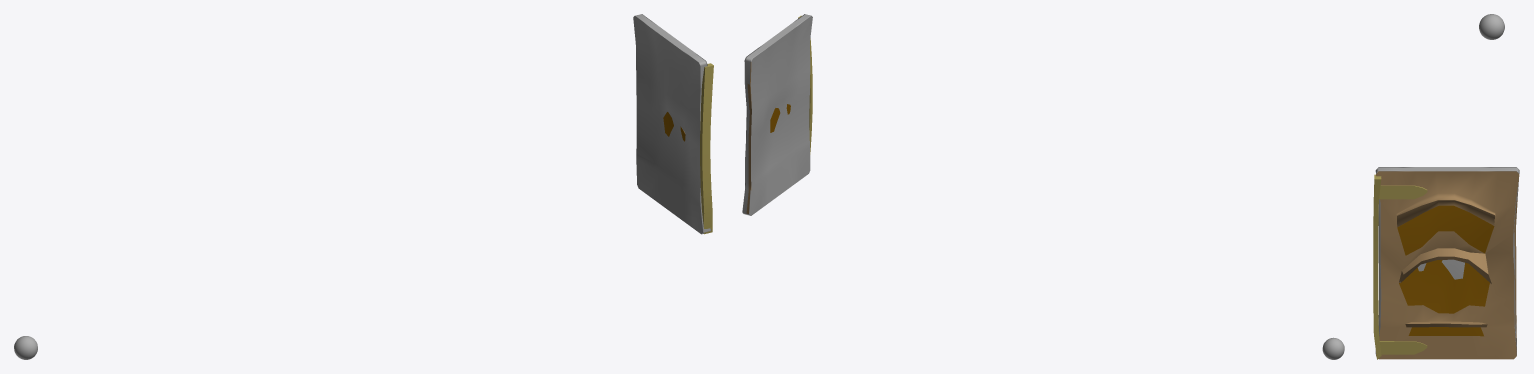
The model's file is door.fbx.
The picture shows the model from 3 angles, left to right: view 1: azimuth 30°, elevation 25°; view 2: azimuth 150°, elevation 25°; view 3: azimuth 270°, elevation 25°; orthographic projection. The views are drawn at different scales.
Parts seen in each view (by area): view 1: pCube1, pCube12; view 2: pCube1; view 3: pCube1, pCube12, pCube3, pCube2, pSphere1.
Part boxes in pixels (x1,y1,x2,y2): pCube1: [633, 14, 710, 234]; pCube12: [700, 63, 713, 234]; pCube1: [742, 14, 812, 215]; pCube1: [1375, 167, 1519, 359]; pCube12: [1373, 174, 1381, 359]; pCube3: [1379, 185, 1427, 199]; pCube2: [1379, 341, 1427, 354]; pSphere1: [1479, 14, 1504, 39].
Size of the model in its own units: 61.97 by 16.76 by 11.24.
